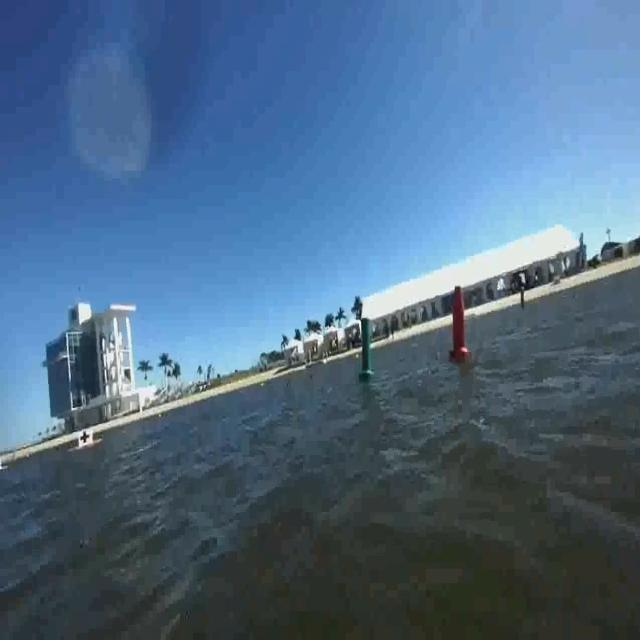green-column-buoy: (358, 305, 379, 382)
red-column-buoy: (448, 285, 471, 361)
